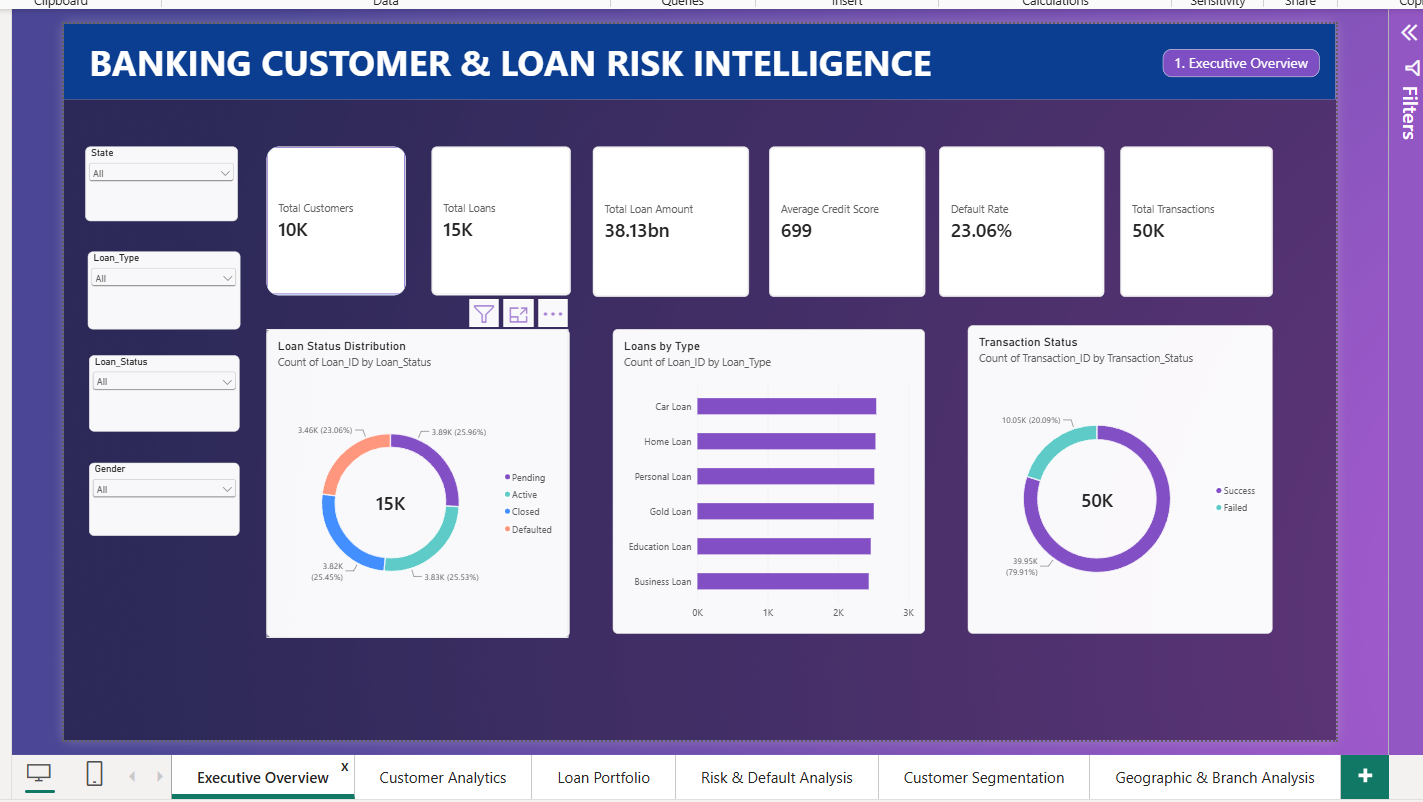

What the dashboard file says about the page in this screenshot:
{"tool":"powerbi","page":{"name":"Executive Overview","canvas":[1920,1080],"ordinal":0},"visuals":[{"type":"cardVisual","fields":{"Data":["customers.Total Customers"]},"box":[305,185.8,210.7,224.6],"z":0},{"type":"cardVisual","fields":{"Data":["loans.Total Loans"]},"box":[554.6,185.8,210.7,224.6],"z":1000},{"type":"cardVisual","fields":{"Data":["loans.Total Loan Amount"]},"box":[798.6,185.8,235.7,227.4],"z":2000},{"type":"cardVisual","fields":{"Data":["loans.Default Rate"]},"box":[1319.9,185.8,249.6,227.4],"z":3000},{"type":"cardVisual","fields":{"Data":["customers.Average Credit Score"]},"box":[1064.8,185.8,235.7,227.4],"z":4000},{"type":"cardVisual","fields":{"Data":["transactions.Total Transactions"]},"box":[1594.5,185.8,230.2,227.4],"z":5000},{"type":"donutChart","title":"Loan Status Distribution","fields":{"Category":["loans.Loan_Status"],"Y":["CountNonNull(loans.Loan_ID)"]},"box":[305,460.3,457.5,465.9],"z":6000},{"type":"slicer","fields":{"Values":["customers.State"]},"box":[32.5,185,230,112.5],"z":7000},{"type":"clusteredBarChart","title":"Loans by Type","fields":{"Category":["loans.Loan_Type"],"Y":["CountNonNull(loans.Loan_ID)"]},"box":[829.1,460.3,471.4,460.3],"z":8000},{"type":"donutChart","title":"Transaction Status","fields":{"Category":["transactions.Transaction_Status"],"Y":["CountNonNull(transactions.Transaction_ID)"]},"box":[1364.3,454.8,460.3,465.9],"z":9000},{"type":"slicer","fields":{"Values":["loans.Loan_Type"]},"box":[35,342.5,230,117.5],"z":10000},{"type":"slicer","fields":{"Values":["customers.Gender"]},"box":[37.5,662.5,227.5,110],"z":11000},{"type":"slicer","fields":{"Values":["loans.Loan_Status"]},"box":[37.5,500,227.5,115],"z":12000},{"type":"shape","box":[0,0,1918.9,113.7],"z":13000},{"type":"textbox","box":[1657.8,37.8,236.7,42.2],"z":14000}]}

Visuals, with their boxes on the page's 1920x1080 design canvas (x1, y1, x2, y2). These are canvas units, not pixel positions in the 1423x802 screenshot, which may show the page scaled, cropped or inside an application window:
cardVisual - customers.Total Customers: bbox(305, 186, 516, 410)
cardVisual - loans.Total Loans: bbox(555, 186, 765, 410)
cardVisual - loans.Total Loan Amount: bbox(799, 186, 1034, 413)
cardVisual - loans.Default Rate: bbox(1320, 186, 1570, 413)
cardVisual - customers.Average Credit Score: bbox(1065, 186, 1300, 413)
cardVisual - transactions.Total Transactions: bbox(1594, 186, 1825, 413)
"Loan Status Distribution" donutChart: bbox(305, 460, 762, 926)
slicer - customers.State: bbox(32, 185, 262, 298)
"Loans by Type" clusteredBarChart: bbox(829, 460, 1300, 921)
"Transaction Status" donutChart: bbox(1364, 455, 1825, 921)
slicer - loans.Loan_Type: bbox(35, 342, 265, 460)
slicer - customers.Gender: bbox(38, 662, 265, 772)
slicer - loans.Loan_Status: bbox(38, 500, 265, 615)
shape: bbox(0, 0, 1919, 114)
textbox: bbox(1658, 38, 1894, 80)
